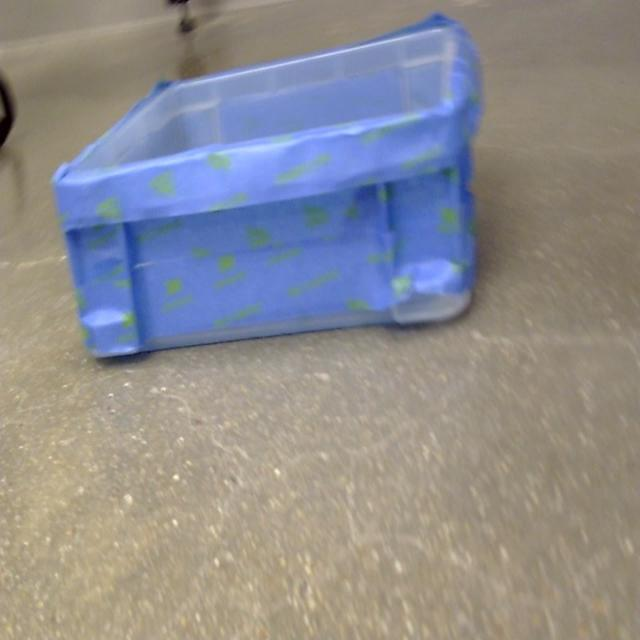bucket: (50, 12, 486, 364)
